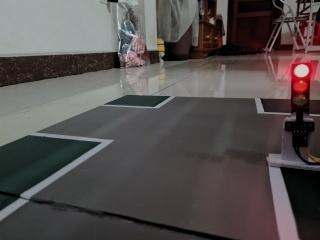red: (284, 54, 315, 125)
